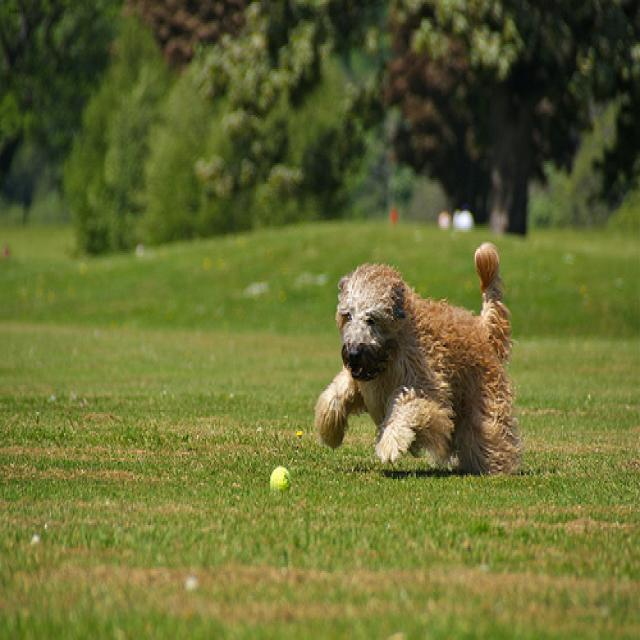dog-wheaten_terrier: (306, 236, 530, 479)
